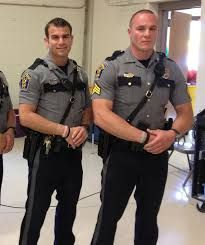gun: (20, 124, 43, 165), (94, 127, 114, 167)
uniform: (97, 43, 179, 239), (20, 51, 83, 239)
